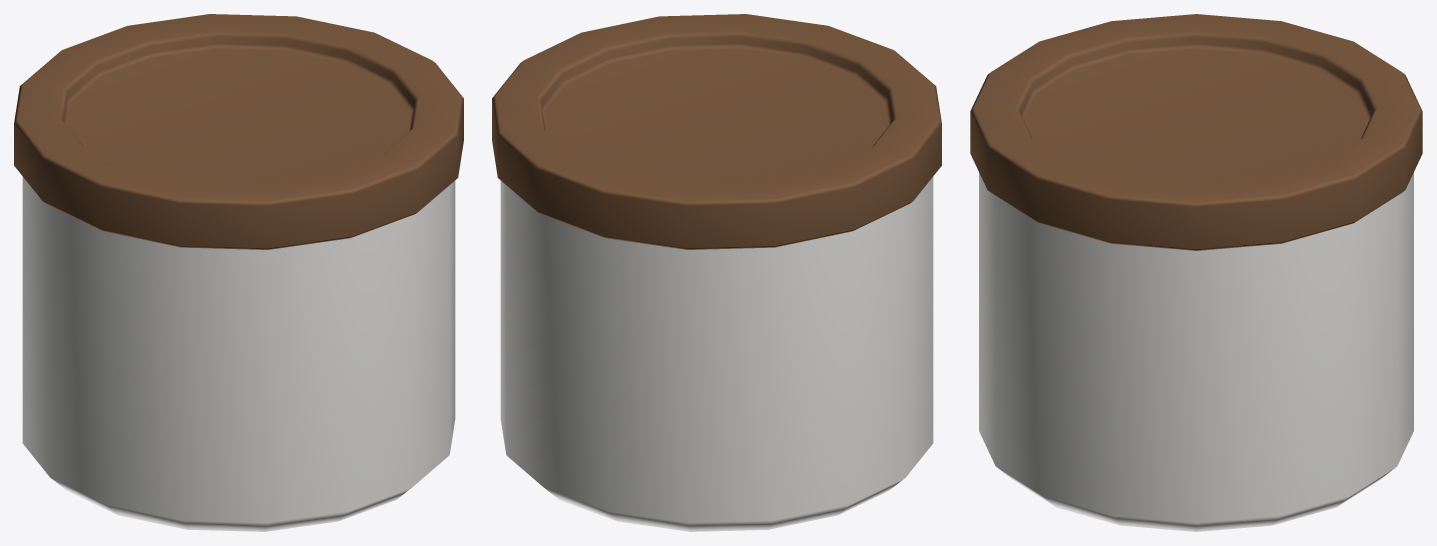
The model's file is Jar_5.glb.
3 renders of one model, left to right at view 1: azimuth 30°, elevation 25°; view 2: azimuth 150°, elevation 25°; view 3: azimuth 270°, elevation 25°, orthographic.
Parts seen in each view (by area): view 1: Jar_5; view 2: Jar_5; view 3: Jar_5.
Part boxes in pixels (box(x1,y1,x2,y2)): Jar_5: box(14, 14, 463, 531); Jar_5: box(492, 14, 941, 531); Jar_5: box(970, 14, 1422, 531).
Bounding box in the file's own units: 0.2474 × 0.2053 × 0.2474.
Materials: 2 (2 with a texture image).
